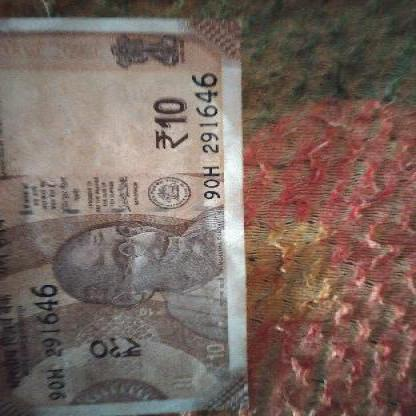New10Front: (0, 22, 251, 410)
